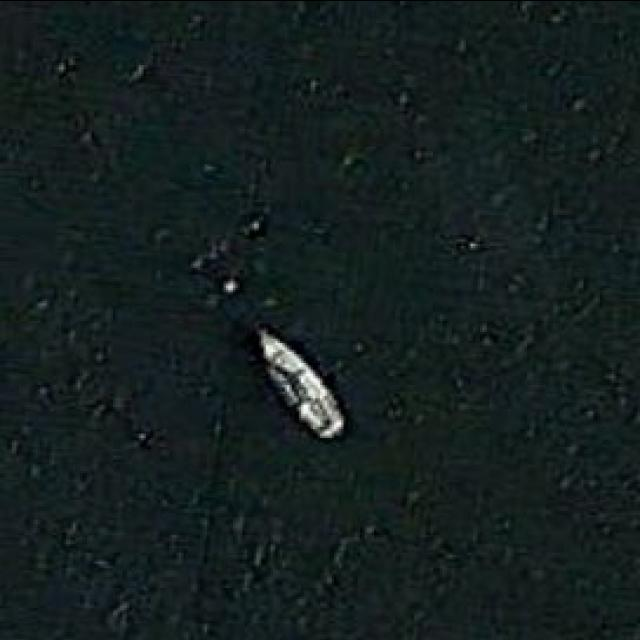ship: (252, 317, 346, 443)
